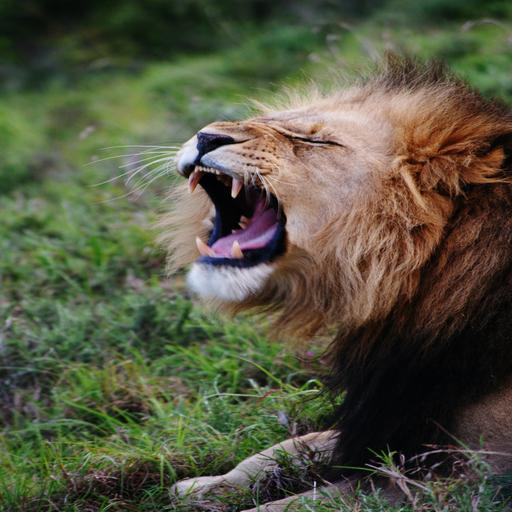Lion: (143, 42, 512, 512)
